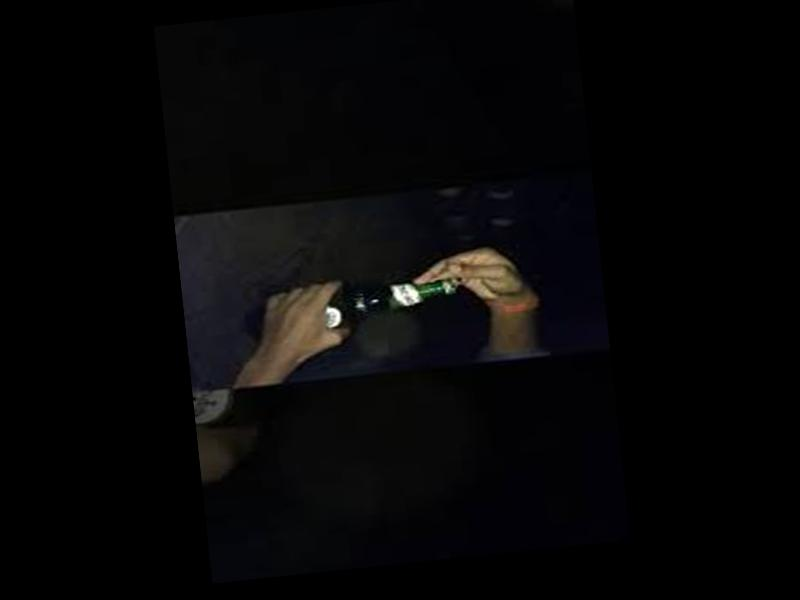Beer: (244, 273, 458, 347)
